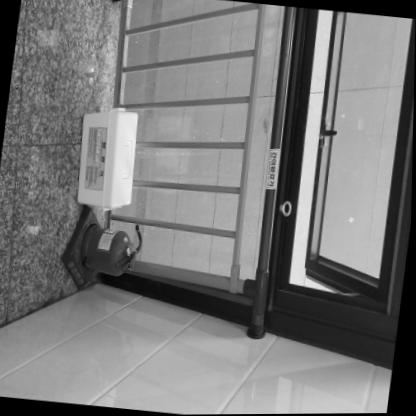DDL: (70, 104, 142, 210)
